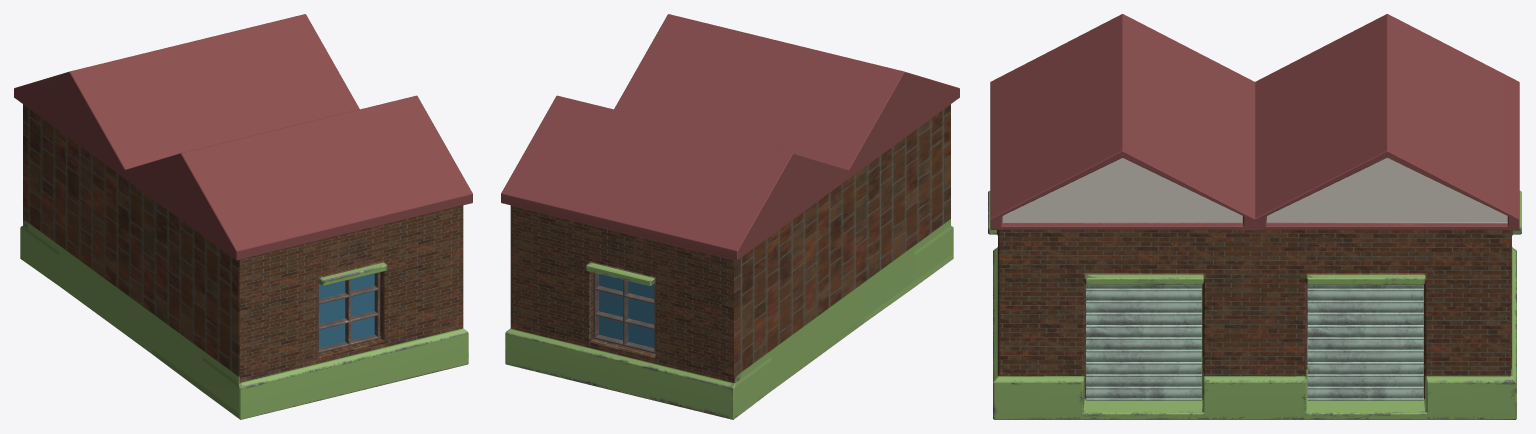
File: garage2.1.fbx
3 views of the same model, side by side, from view 1: azimuth 30°, elevation 25°; view 2: azimuth 150°, elevation 25°; view 3: azimuth 270°, elevation 25° (orthographic). The views are drawn at different scales.
Visible parts, largest first — view 1: polySurface36; view 2: polySurface36; view 3: polySurface36.
Part boxes in pixels (bbox=[...]): polySurface36: bbox=[14, 14, 472, 419]; polySurface36: bbox=[501, 14, 959, 419]; polySurface36: bbox=[988, 14, 1521, 419].
Size of the model in its own units: 9.91 by 9.11 by 16.24.
